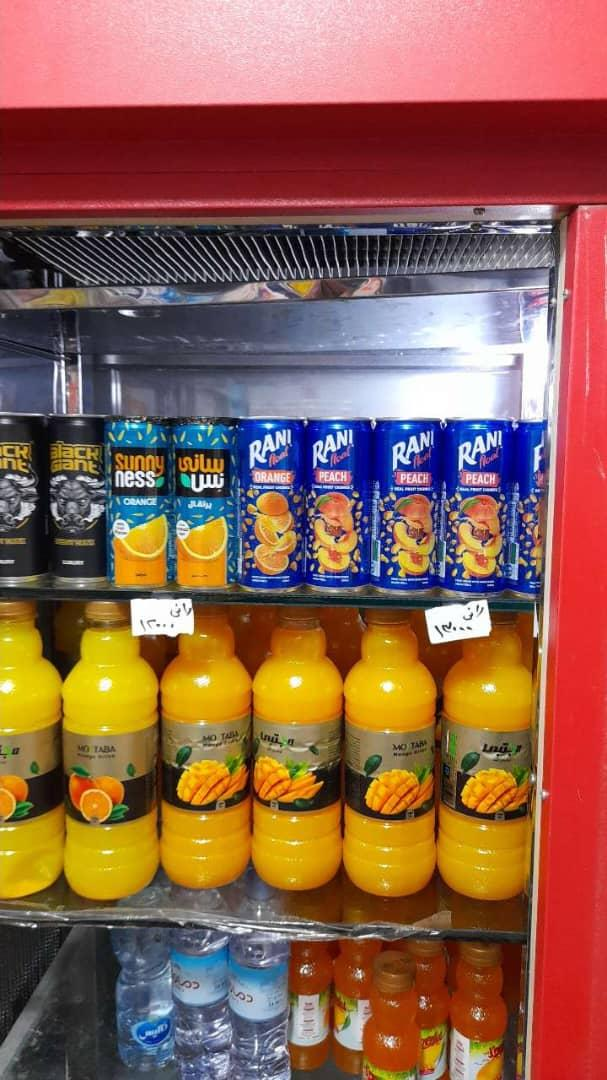Peach: (445, 420, 510, 585), (375, 421, 438, 587), (307, 420, 370, 584)
